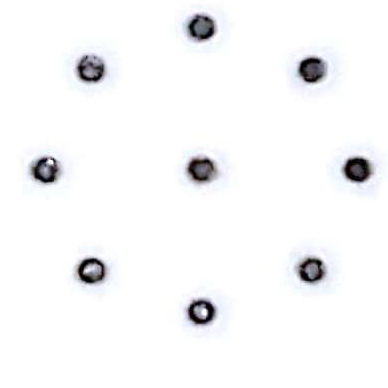cancer: (162, 133, 240, 205), (281, 33, 354, 104), (315, 140, 388, 210), (275, 233, 346, 301), (57, 38, 126, 102), (168, 285, 239, 347), (58, 243, 125, 304), (15, 144, 81, 204), (168, 2, 236, 59)
